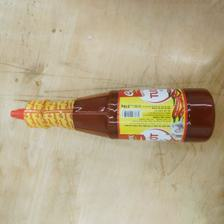Tuong: (7, 87, 215, 143)
